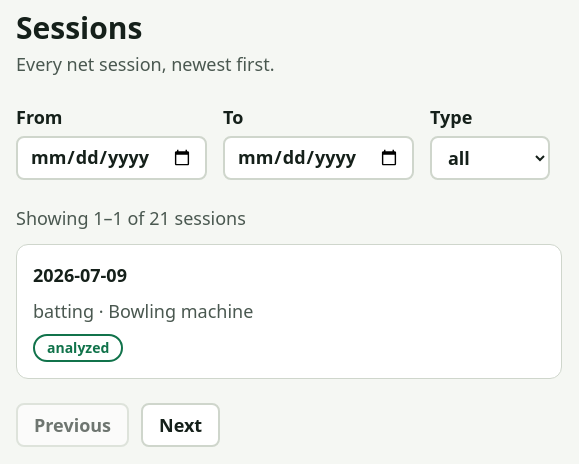
it: SessionListClient (US-B5 AC: filterable by date/type) › pages through the API with Previous and Next
Check: the text "Showing 1–1 of 21 sessions" is shown, box [16,206,246,230]
Check: the button "Previous" is disabled, box [16,403,129,447]
Click the button "Next" at coordinates (181, 425), box [141,403,220,447]
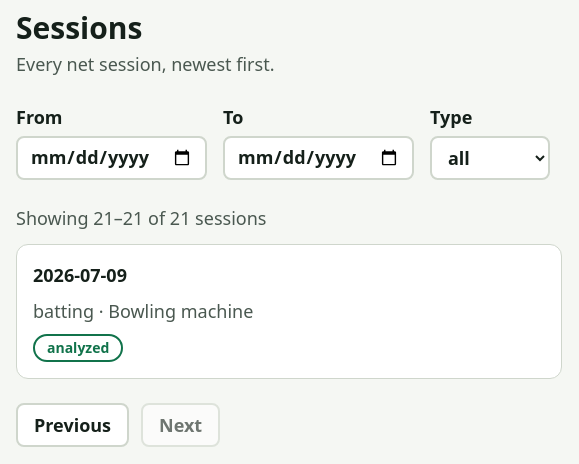
Check: the text "Showing 21–21 of 21 sessions" is shown, box [16,206,266,230]
Check: the button "Next" is disabled, box [141,403,220,447]
Click the button "Previous" at coordinates (72, 425), box [16,403,129,447]
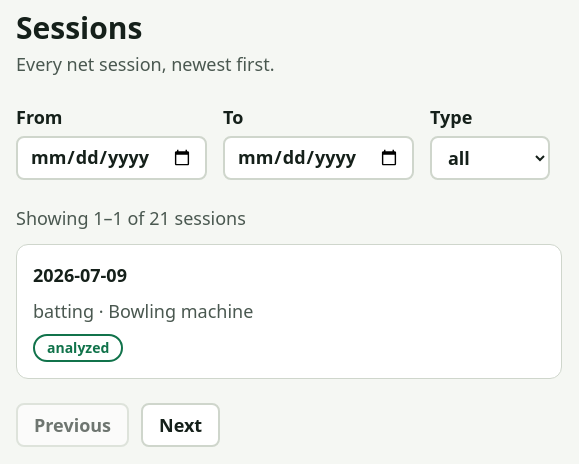
Check: the text "Showing 1–1 of 21 sessions" is shown, box [16,206,246,230]
